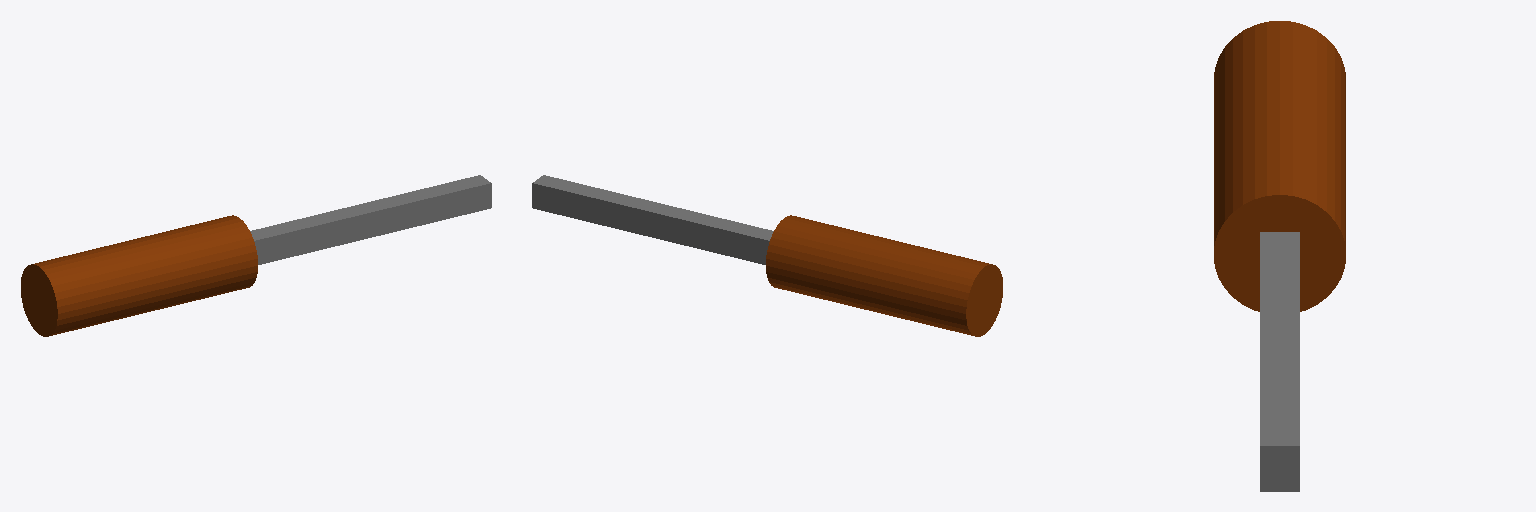
URDF robot description (handle_head):
<?xml version="1.0"?>
<robot name="handle_head">

  <link name="handle_head">
    <!-- Handle -->
    <visual>
              <origin xyz="0 0 0" rpy="0 -1.5707963267948966 0"/>
        <geometry>
          <cylinder length="0.11689942407307609" radius="0.01883278521067836"/>
        </geometry>
        
      <material name="brown">
        <color rgba="0.55 0.27 0.07 1.0"/>
      </material>
    </visual>
    <collision>
              <origin xyz="0 0 0" rpy="0 -1.5707963267948966 0"/>
        <geometry>
          <cylinder length="0.11689942407307609" radius="0.01883278521067836"/>
        </geometry>
        
    </collision>

    <!-- Head -->
    <visual>
              <origin xyz="0.13020944734498732 0 0" rpy="0 0 0"/>
        <geometry>
          <box size="0.14351947061689854 0.011339830688855277 0.014101514024239715"/>
        </geometry>
        
      <material name="gray">
        <color rgba="0.5 0.5 0.5 1.0"/>
      </material>
    </visual>
    <collision>
              <origin xyz="0.13020944734498732 0 0" rpy="0 0 0"/>
        <geometry>
          <box size="0.14351947061689854 0.011339830688855277 0.014101514024239715"/>
        </geometry>
        
    </collision>

    <inertial>
      <origin xyz="0.028764081388478864 0 0" rpy="0 0 0"/>
      <mass value="0.11034595563083895"/>
      <inertia ixx="1.5371626696753234e-05" iyy="0.0005177379725021284" izz="0.0005175952484625768" ixy="0" ixz="0" iyz="0"/>
    </inertial>
  </link>

</robot>

--- Facts derived from the render (not from the file) ---
3 views of the same robot in one strip: view 1: azimuth 30°, elevation 25°; view 2: azimuth 150°, elevation 25°; view 3: azimuth 270°, elevation 25° (orthographic).
Model handle_head with 1 links and 0 joints (none), rooted at handle_head, posed every joint at zero.
Visible links, largest first — view 1: handle_head; view 2: handle_head; view 3: handle_head.
Link boxes in pixels (bbox=[...]): handle_head: bbox=[21, 175, 491, 336]; handle_head: bbox=[532, 175, 1002, 336]; handle_head: bbox=[1214, 21, 1345, 491].
Bounding box of the posed robot: 0.2604 × 0.0377 × 0.0377 m (x, y, z).
Geometry: primitives only (box / cylinder / sphere), no mesh files.
